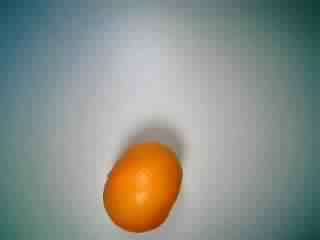orange: (96, 136, 192, 232)
